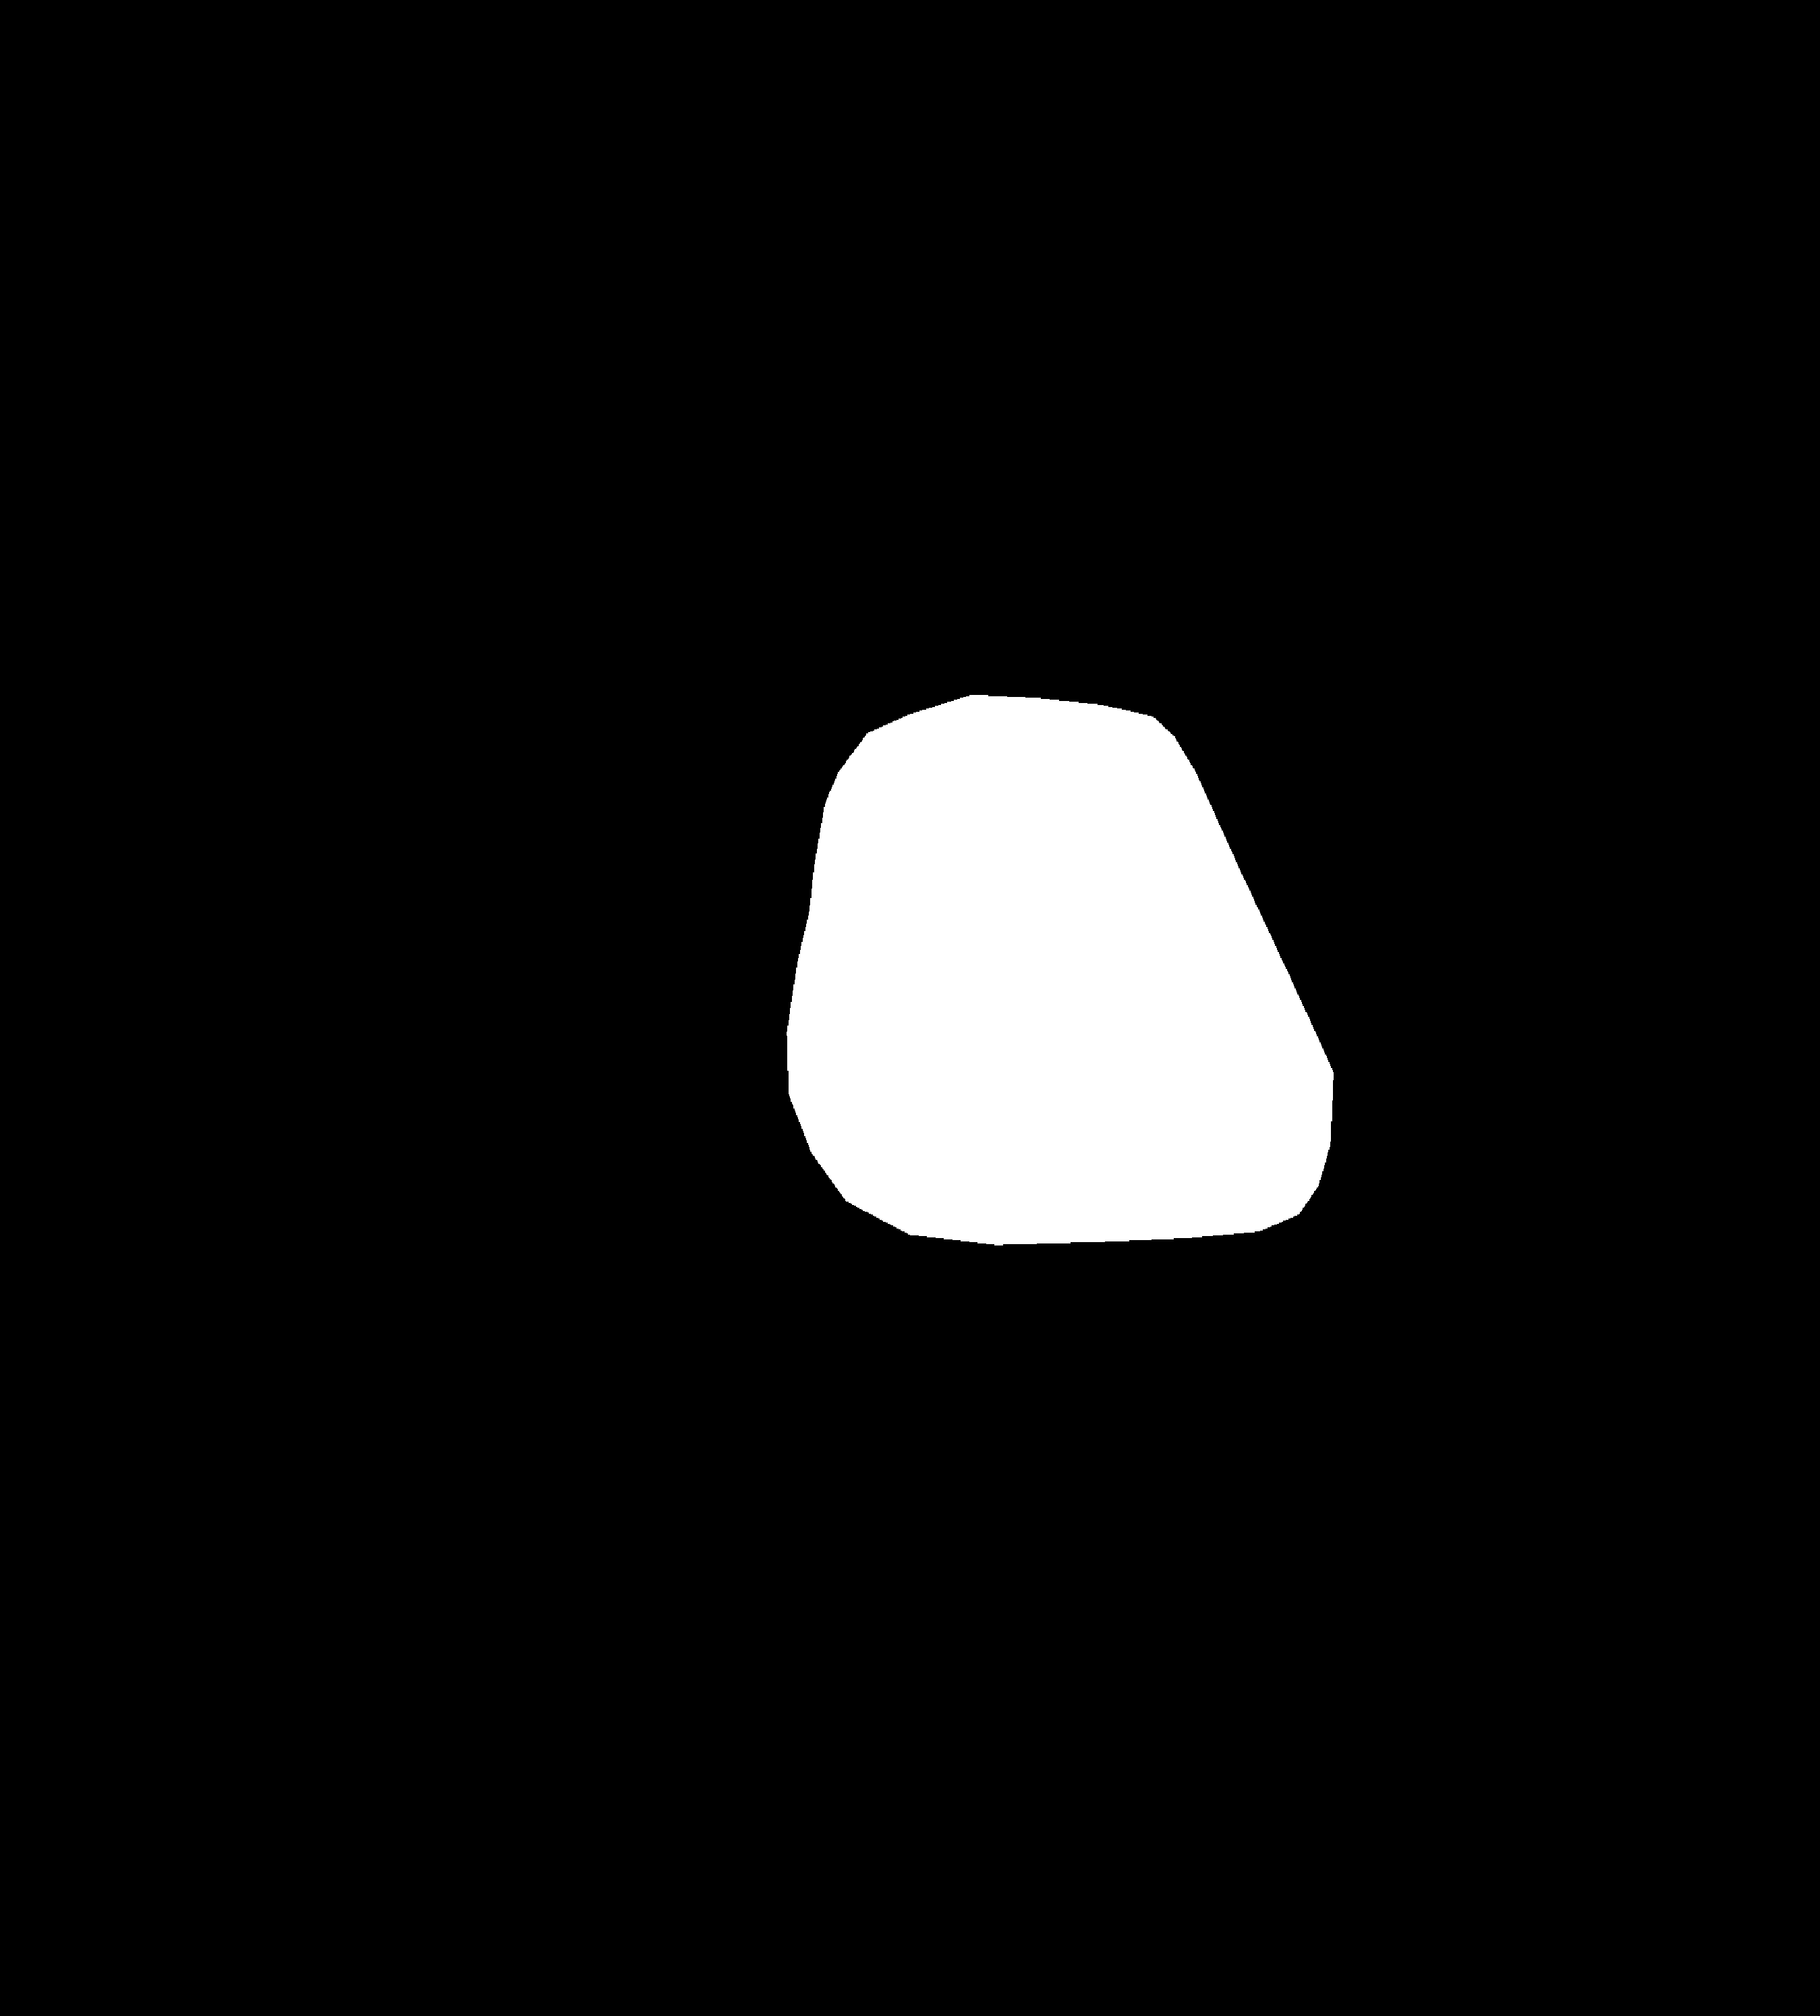heart: (785, 846, 1336, 1312)
left_lung: (300, 204, 867, 1440)
right_lung: (992, 228, 1532, 1380)
